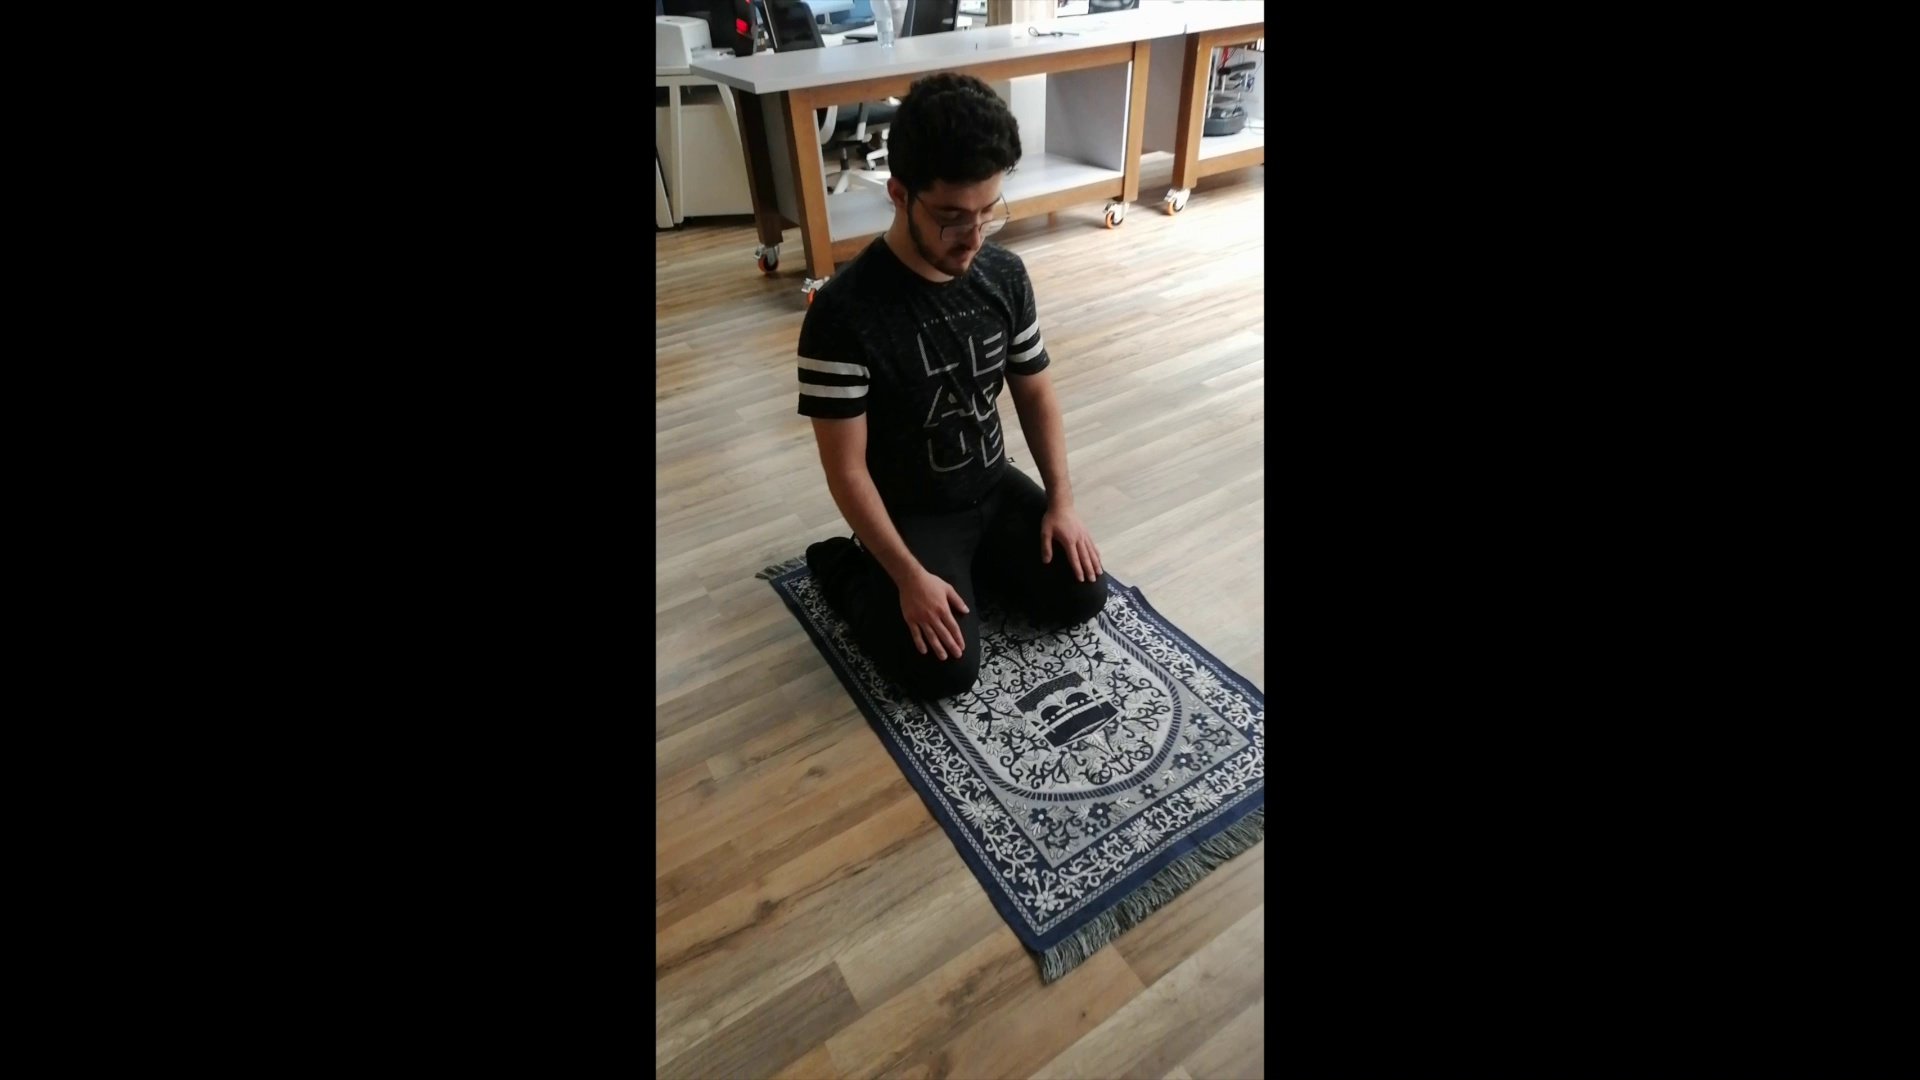sitting: (785, 65, 1114, 705)
